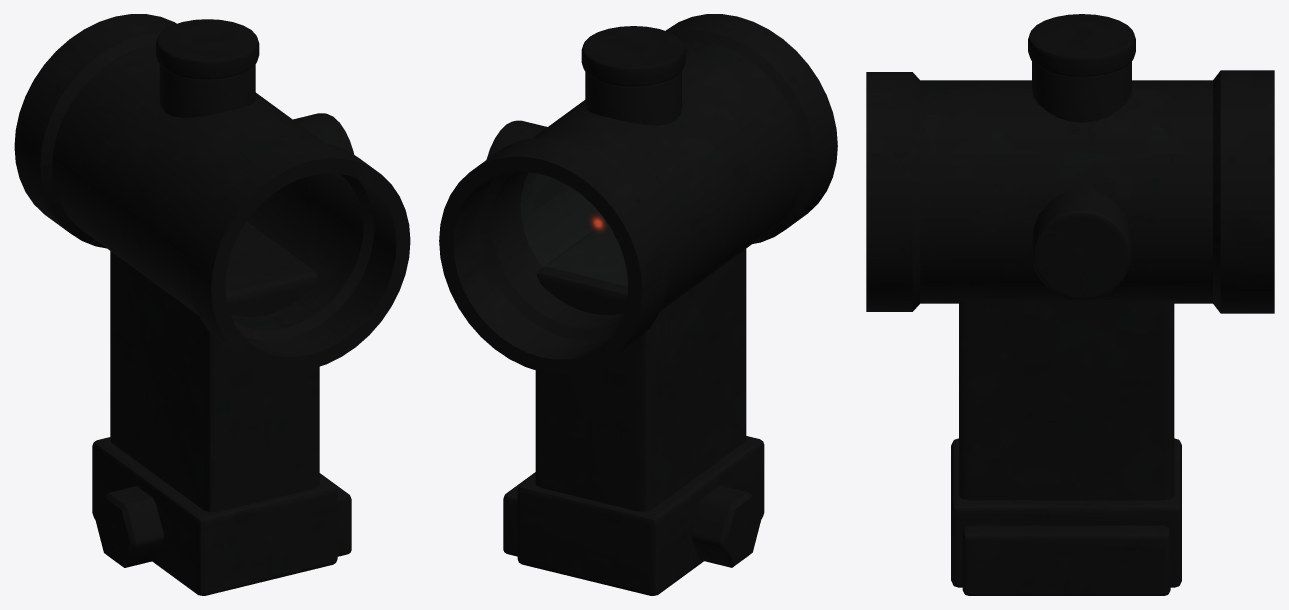
File: reflex.gltf
3 views of the same model, side by side, from view 1: azimuth 30°, elevation 25°; view 2: azimuth 150°, elevation 25°; view 3: azimuth 270°, elevation 25° (orthographic). The views are drawn at different scales.
Visible parts, largest first — view 1: Body; view 2: Body, Glass; view 3: Body.
Part boxes in pixels (bbox=[...]): Body: bbox=[14, 14, 410, 595]; Body: bbox=[439, 14, 837, 595]; Glass: bbox=[521, 173, 627, 285]; Body: bbox=[866, 14, 1274, 595].
Bounding box in the file's own units: 0.036 × 0.0775 × 0.053.
Materials: 4 (3 with a texture image).
